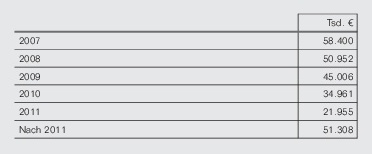table: (0, 0, 372, 154)
